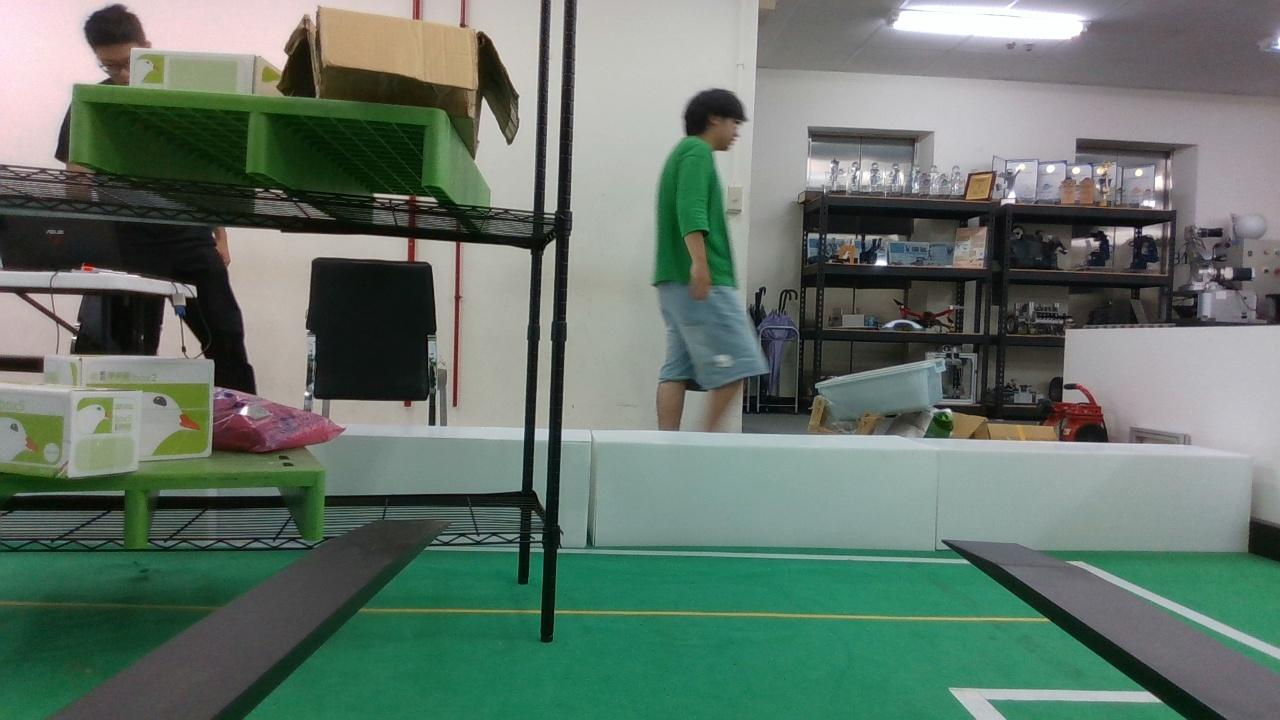Pallet: (63, 85, 454, 194)
